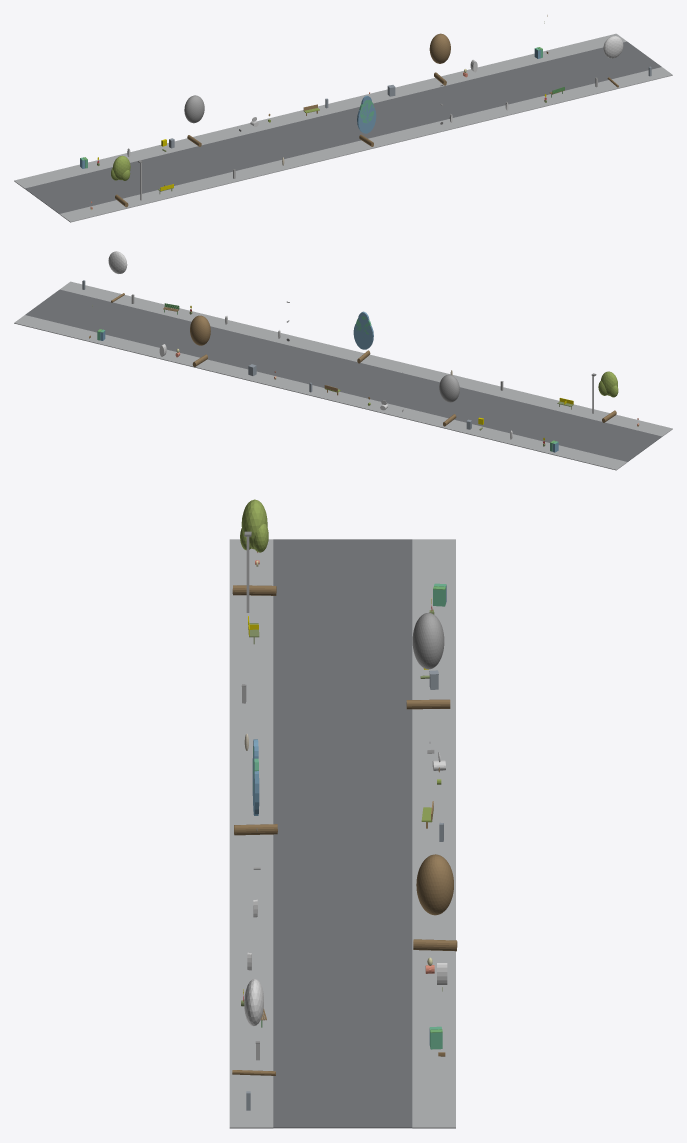
3 views of the same model, one above another, from view 1: azimuth 30°, elevation 25°; view 2: azimuth 150°, elevation 25°; view 3: azimuth 270°, elevation 25° (orthographic). The views are drawn at different scales.
Parts seen in each view (by area): view 1: road_slab, sidewalk_left, sidewalk_right, inst_0014, inst_0015, inst_0013, inst_0012, inst_0016; view 2: road_slab, sidewalk_right, sidewalk_left, inst_0014, inst_0015, inst_0013, inst_0012, inst_0016; view 3: road_slab, sidewalk_left, sidewalk_right, inst_0015, inst_0013, inst_0012, inst_0014, inst_0016.
Boxes of the visible parts, x1,y1,x2,y2 form: road_slab: [25, 41, 661, 213]; sidewalk_left: [59, 67, 672, 222]; sidewalk_right: [14, 33, 626, 188]; inst_0014: [357, 95, 376, 146]; inst_0015: [429, 33, 450, 85]; inst_0013: [184, 95, 204, 146]; inst_0012: [111, 155, 130, 207]; inst_0016: [603, 36, 623, 87]; road_slab: [25, 289, 661, 461]; sidewalk_right: [14, 315, 627, 470]; sidewalk_left: [60, 281, 672, 436]; inst_0014: [353, 311, 373, 363]; inst_0015: [190, 315, 210, 367]; inst_0013: [439, 374, 459, 426]; inst_0012: [598, 371, 618, 422]; inst_0016: [108, 251, 127, 302]; road_slab: [273, 539, 412, 1128]; sidewalk_left: [229, 539, 273, 1128]; sidewalk_right: [412, 539, 455, 1128]; inst_0015: [413, 854, 457, 951]; inst_0013: [406, 612, 450, 709]; inst_0012: [232, 499, 276, 595]; inst_0014: [234, 739, 277, 835]; inst_0016: [232, 979, 275, 1075].
Size of the model in its own units: 80 by 6.08 by 13.08.
